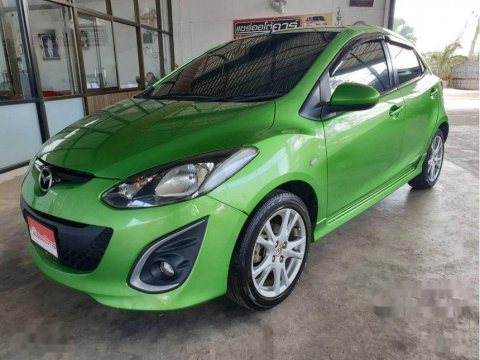sedan: (16, 22, 452, 313)
